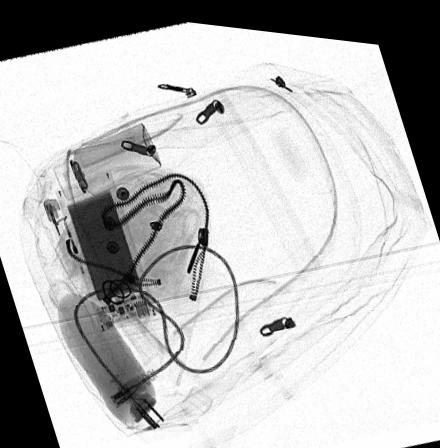Lighter: (42, 196, 93, 290)
Powerbank: (55, 166, 157, 327)
Sprayer: (53, 118, 161, 199)
